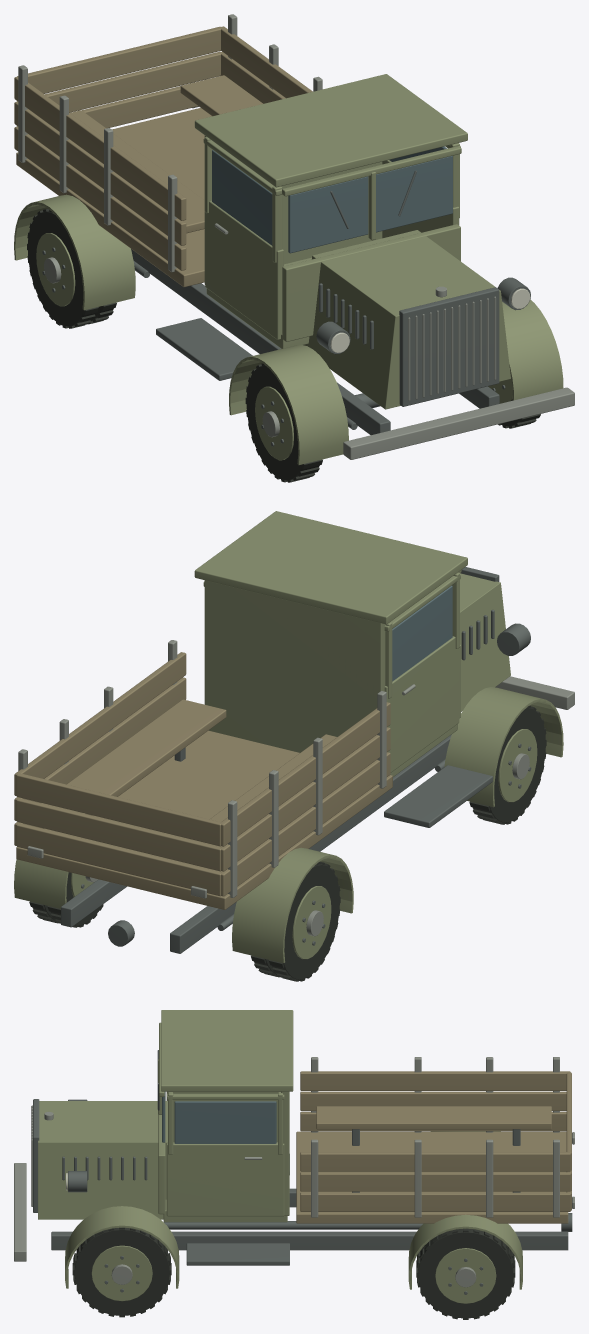
The model's file is polish_transport.glb.
3 renders of one model, top to bottom at view 1: azimuth 30°, elevation 25°; view 2: azimuth 150°, elevation 25°; view 3: azimuth 270°, elevation 25°, orthographic. The views are drawn at different scales.
Parts seen in each view (by area): view 1: cab_door, cargo_bed, bench_leg, side_window, bed_upright, tyre.001, tyre, pressed_steel_rim.002, pressed_steel_rim, headlight_lens; view 2: cab_door, cargo_bed, bench_leg, bed_upright, tyre.001, side_window, tyre, pressed_steel_rim.002, pressed_steel_rim, tyre.004; view 3: cab_door, cargo_bed, bench_leg, bed_upright, tyre.004, side_window, tyre.003, pressed_steel_rim.006, pressed_steel_rim.004.
Boxes of the visible parts, bbox=[...] form: cab_door: bbox=[14, 74, 563, 464]; cargo_bed: bbox=[14, 26, 312, 287]; bench_leg: bbox=[131, 170, 530, 434]; side_window: bbox=[212, 146, 452, 253]; bed_upright: bbox=[18, 14, 574, 459]; tyre.001: bbox=[27, 208, 116, 328]; tyre: bbox=[245, 363, 322, 482]; pressed_steel_rim.002: bbox=[36, 233, 75, 306]; pressed_steel_rim: bbox=[255, 386, 293, 460]; headlight_lens: bbox=[330, 288, 530, 352]; cab_door: bbox=[14, 511, 563, 963]; cargo_bed: bbox=[14, 652, 392, 909]; bench_leg: bbox=[61, 567, 530, 953]; bed_upright: bbox=[18, 640, 574, 898]; tyre.001: bbox=[251, 861, 340, 981]; side_window: bbox=[392, 585, 452, 681]; tyre: bbox=[469, 705, 546, 824]; pressed_steel_rim.002: bbox=[292, 886, 331, 959]; pressed_steel_rim: bbox=[498, 729, 537, 802]; tyre.004: bbox=[29, 872, 103, 927]; cab_door: bbox=[38, 1010, 522, 1289]; cargo_bed: bbox=[296, 1071, 571, 1223]; bench_leg: bbox=[33, 1050, 572, 1265]; bed_upright: bbox=[14, 1057, 574, 1261]; tyre.004: bbox=[416, 1228, 515, 1319]; side_window: bbox=[162, 1092, 276, 1143]; tyre.003: bbox=[72, 1227, 171, 1317]; pressed_steel_rim.006: bbox=[435, 1248, 496, 1303]; pressed_steel_rim.004: bbox=[91, 1245, 152, 1301].
Bounding box in the file's own units: 1.61 × 1.54 × 3.53.
